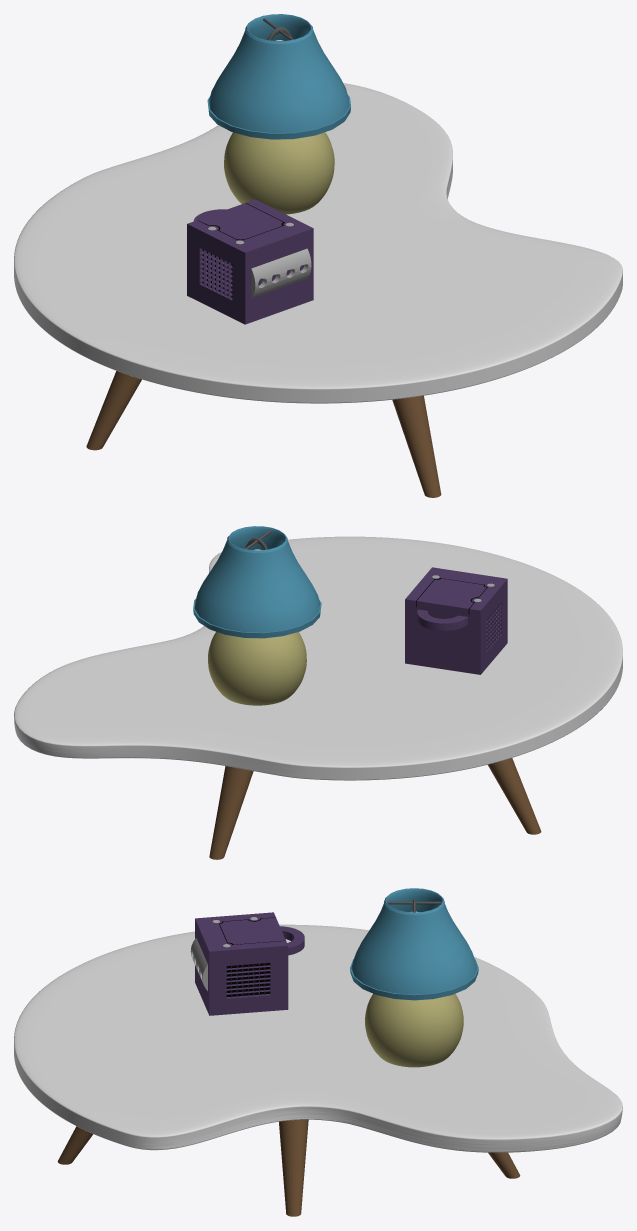
The model's file is Home_Evening.fbx.
3 renders of one model, top to bottom at view 1: azimuth 30°, elevation 25°; view 2: azimuth 150°, elevation 25°; view 3: azimuth 270°, elevation 25°, orthographic. The views are drawn at different scales.
Parts seen in each view (by area): view 1: polySurface16, polySurface26, Box1:polySurface15, polySurface25, polySurface18, polySurface20; view 2: polySurface16, polySurface26, Box1:polySurface15, polySurface25, polySurface19, polySurface20; view 3: polySurface16, polySurface26, Box1:polySurface15, polySurface25, polySurface17, polySurface18, polySurface19.
Boxes of the visible parts, x1,y1,x2,y2 form: polySurface16: (14,83,622,403); polySurface26: (207,14,350,139); Box1:polySurface15: (187,199,313,324); polySurface25: (224,132,334,214); polySurface18: (392,395,441,497); polySurface20: (86,371,141,450); polySurface16: (14,536,622,780); polySurface26: (193,526,321,638); Box1:polySurface15: (405,567,507,674); polySurface25: (208,631,306,705); polySurface19: (209,766,253,859); polySurface20: (488,758,541,834); polySurface16: (14,924,622,1152); polySurface26: (350,888,478,1000); Box1:polySurface15: (190,912,304,1015); polySurface25: (365,993,463,1067); polySurface17: (279,1119,308,1216); polySurface18: (57,1126,93,1164); polySurface19: (488,1152,520,1178).
Size of the model in its own units: 7.61 by 4.62 by 9.11.
